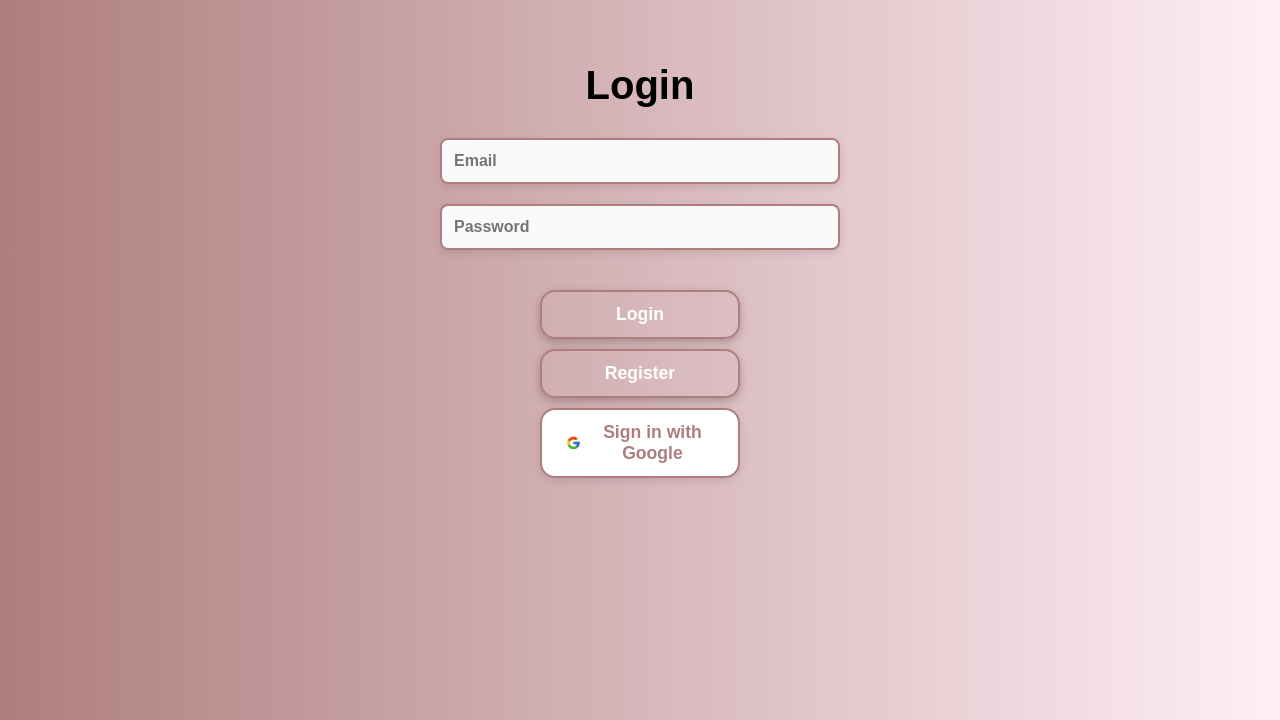
Login Component › displays error message when email and password login fails
The image size is (1280, 720).
Step 1. Type "wrongtestuser@gmail.com" into the field with placeholder "Email" → (640, 160), box [440,138,840,184]
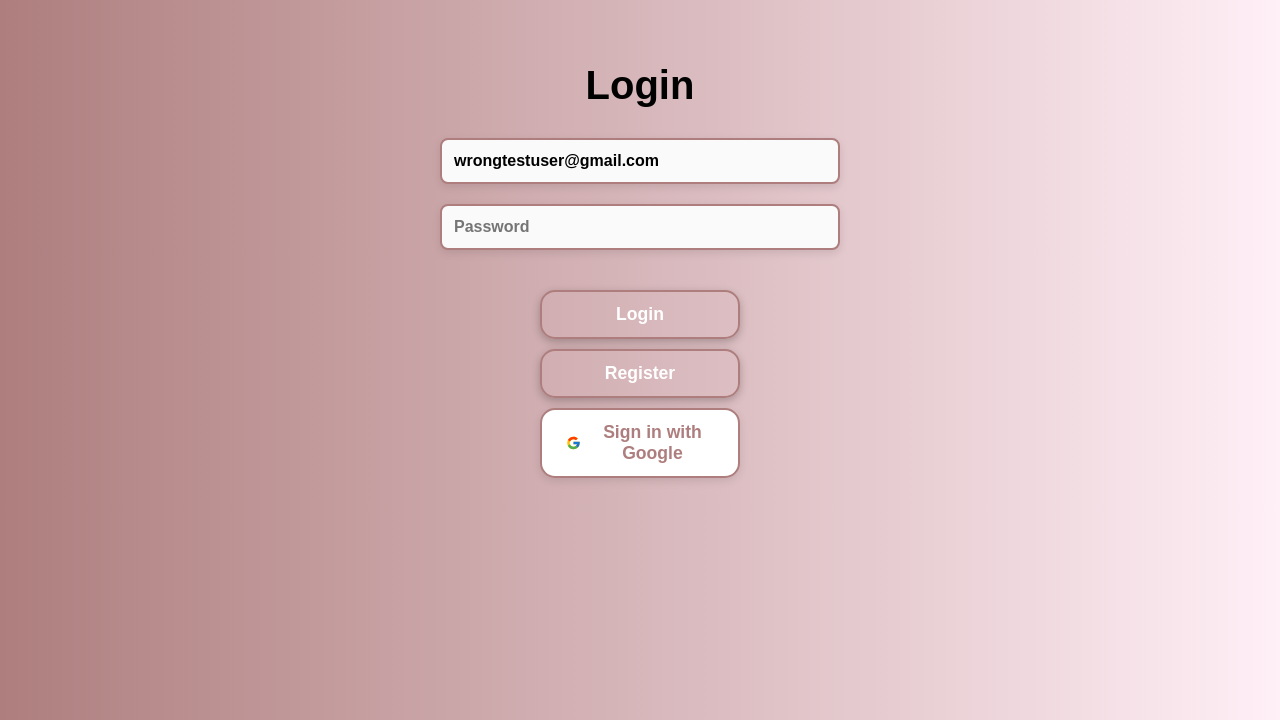
Step 2. Type "wrongpassword" into the password field with placeholder "Password" → (640, 226), box [440,204,840,250]
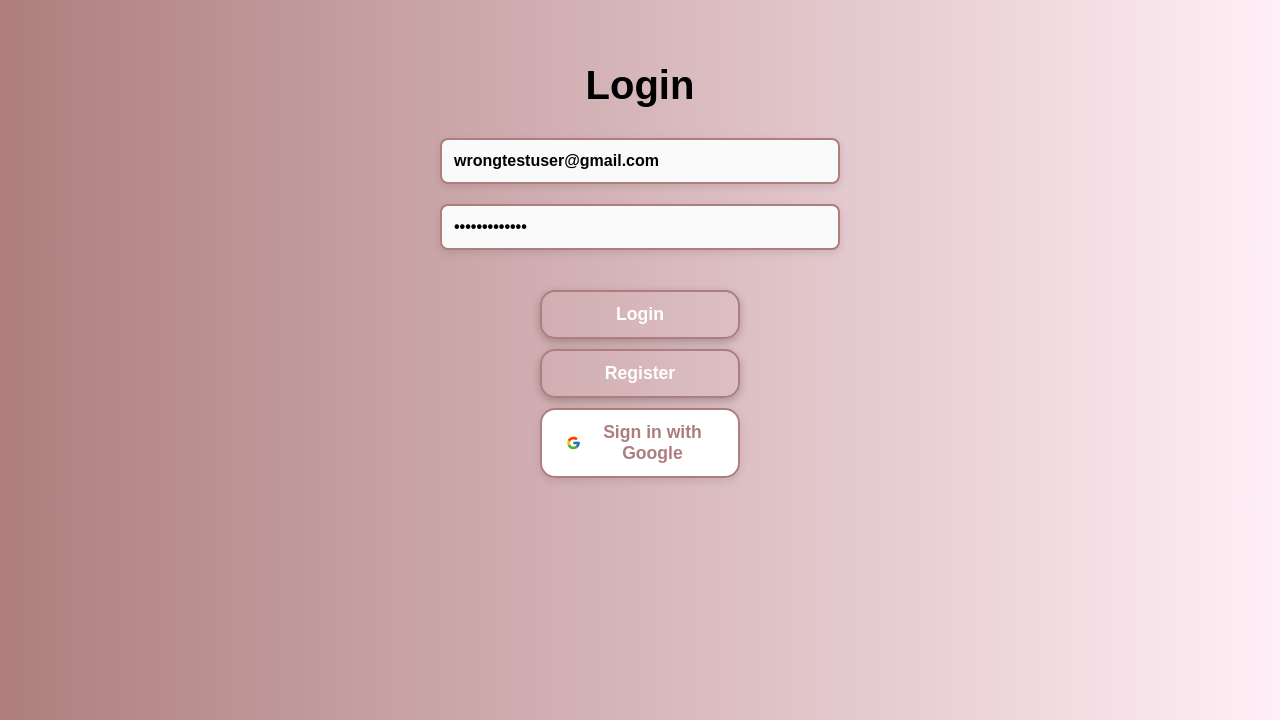
Step 3. Click the button "Login" → (640, 314), box [540,290,740,338]
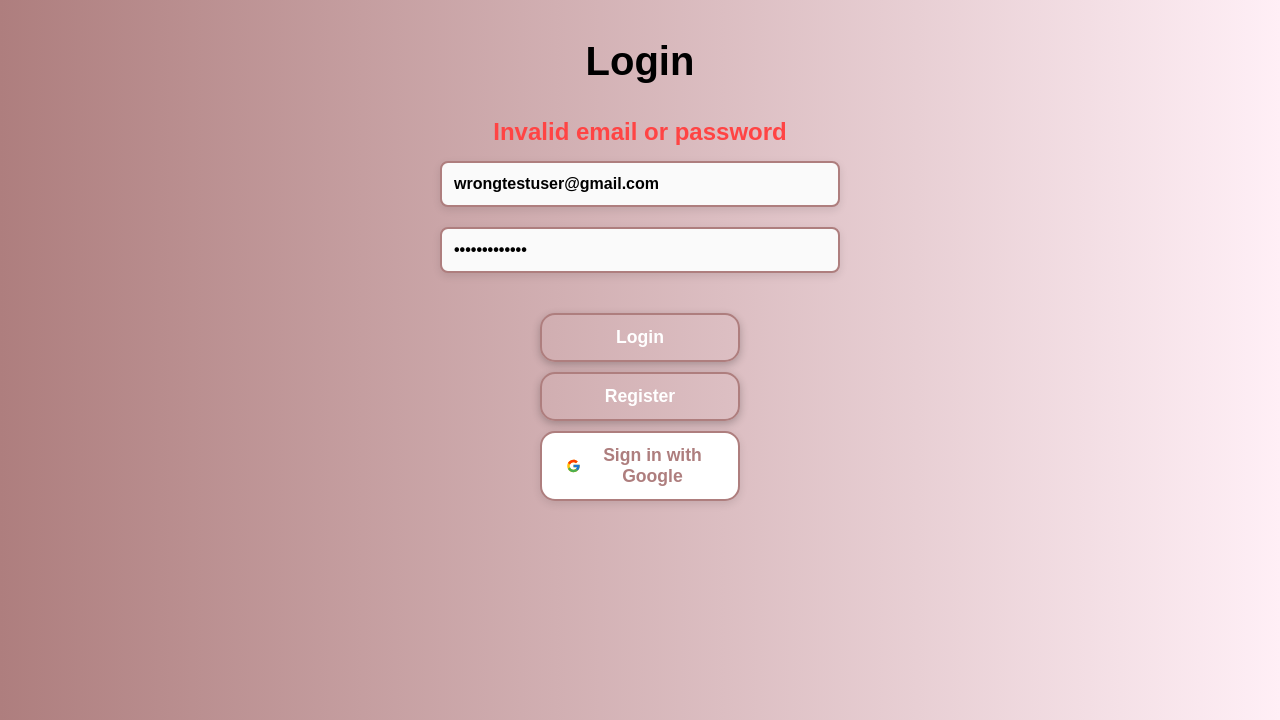
Expected: the text "Invalid email or password" is shown, [493,118,787,146]
